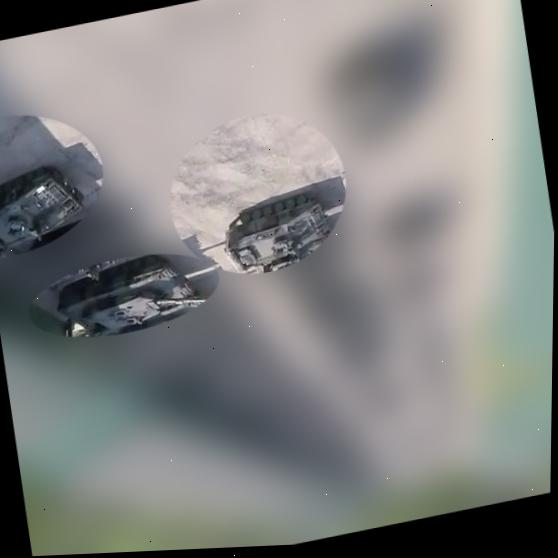armored_car: (223, 186, 361, 283), (0, 165, 92, 255)
tank: (44, 242, 217, 350)
